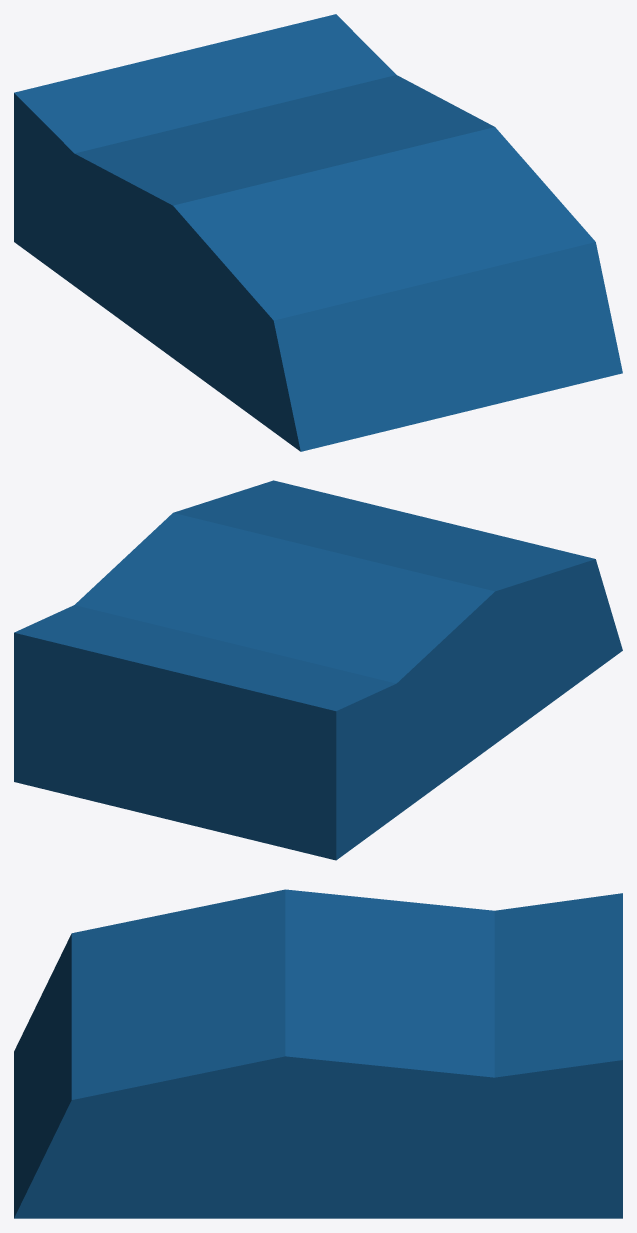
File: Car 1.fbx
3 renders of one model, top to bottom at view 1: azimuth 30°, elevation 25°; view 2: azimuth 150°, elevation 25°; view 3: azimuth 270°, elevation 25°, orthographic. The views are drawn at different scales.
Parts seen in each view (by area): view 1: RaceCar; view 2: RaceCar; view 3: RaceCar.
Part boxes in pixels (bbox=[...]): RaceCar: bbox=[14, 14, 622, 451]; RaceCar: bbox=[14, 480, 622, 860]; RaceCar: bbox=[14, 889, 622, 1218].
Size of the model in its own units: 126 by 57.08 by 194.
